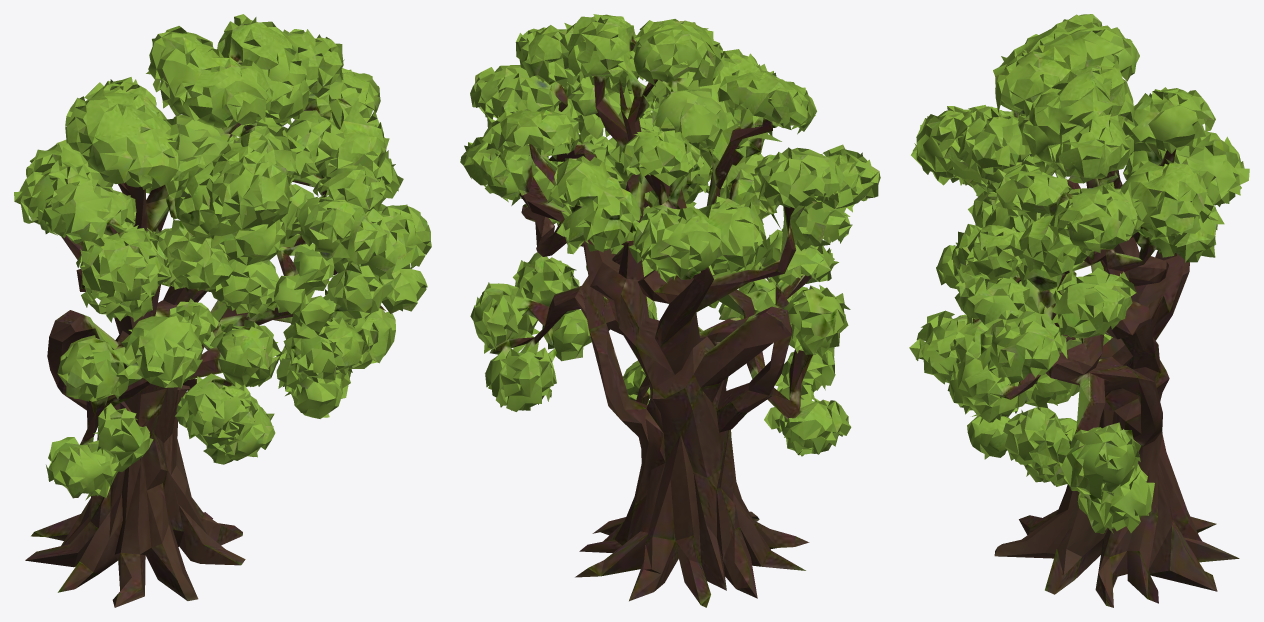
Rendered from oaktree.glb.
3 views of the same model, side by side, from view 1: azimuth 30°, elevation 25°; view 2: azimuth 150°, elevation 25°; view 3: azimuth 270°, elevation 25° (orthographic). The views are drawn at different scales.
Bounding box in the file's own units: 1.41 × 1.9 × 1.08.
Materials: 1 (1 with a texture image).
